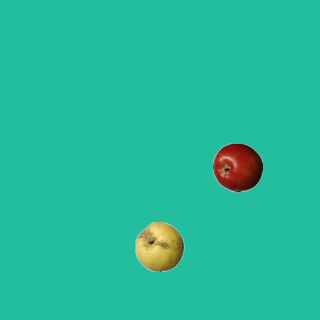Apple Braeburn: (212, 142, 262, 192)
Apple Golden 1: (134, 221, 184, 271)
